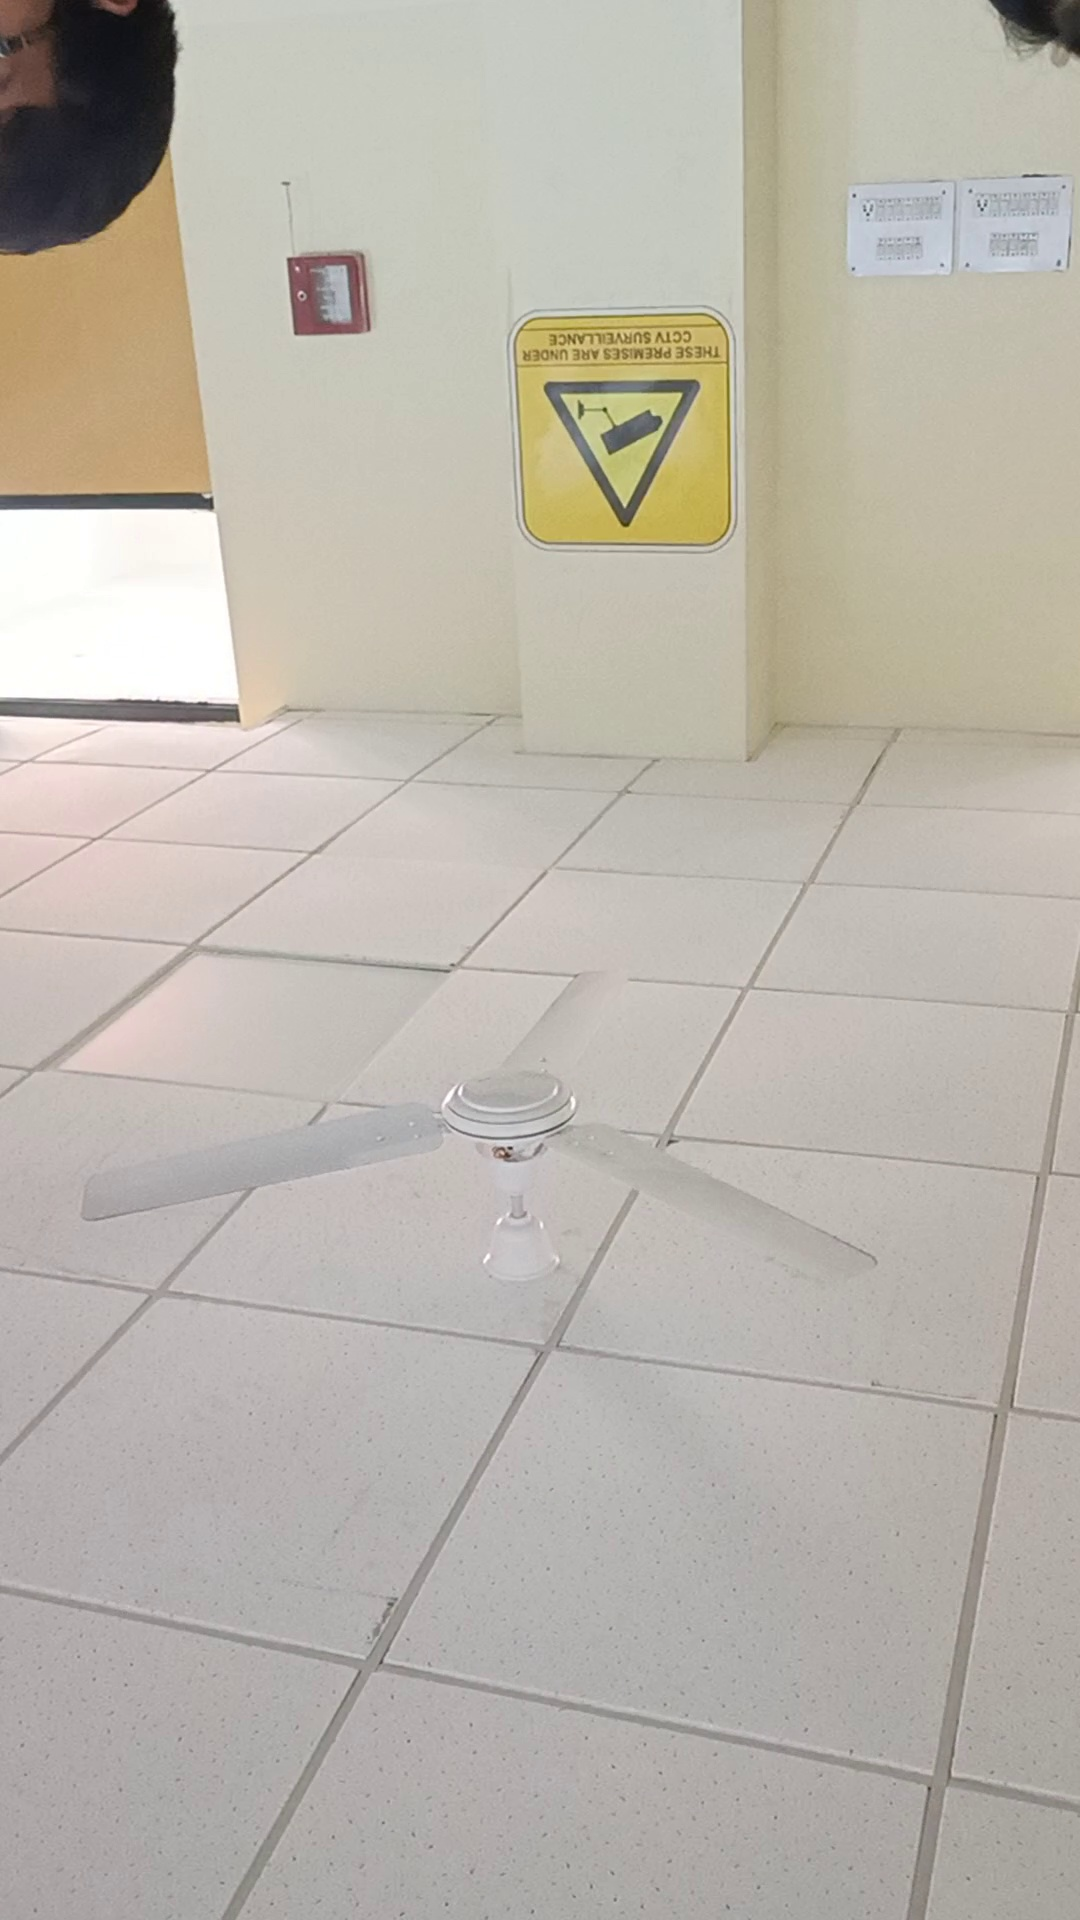fan: (75, 956, 911, 1337)
